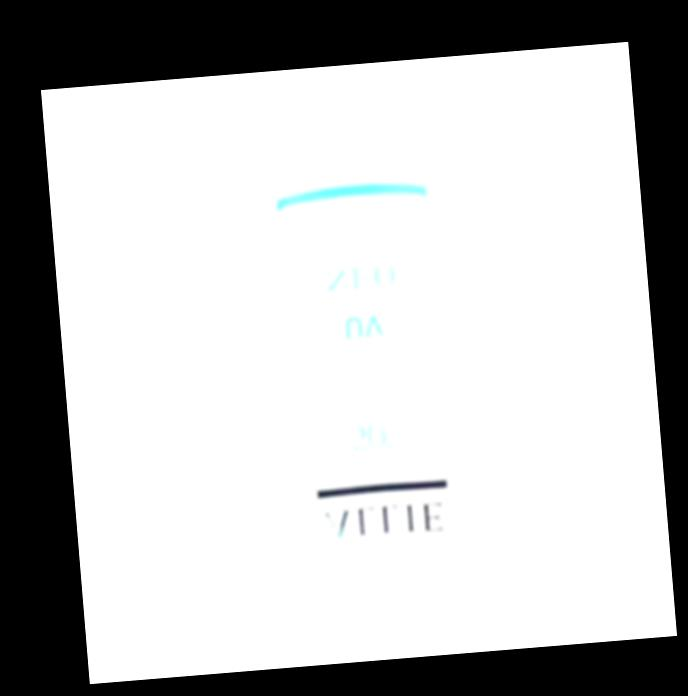cosmetic: (238, 94, 494, 634)
